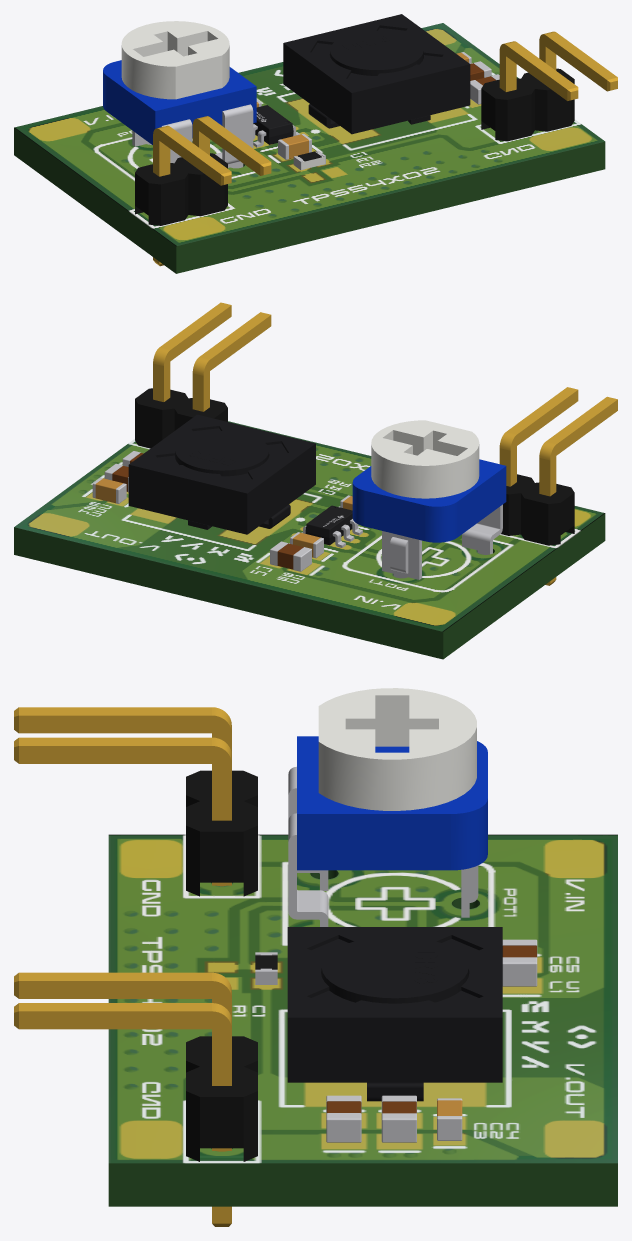
The model's file is eml01.glb.
3 renders of one model, top to bottom at view 1: azimuth 30°, elevation 25°; view 2: azimuth 150°, elevation 25°; view 3: azimuth 270°, elevation 25°, orthographic. The views are drawn at different scales.
Parts seen in each view (by area): view 1: Board:Open CASCADE STEP translator 7.5 3.1.1, L1:Cooper Bussman DR73 Series Inductor, POT1: (×4), J1:PLS-1R (×2), J2:PLS-1R (×2), U1:body, C1:Open CASCADE STEP translator 6.8 3.2.1; view 2: Board:Open CASCADE STEP translator 7.5 3.1.1, POT1: (×4), L1:Cooper Bussman DR73 Series Inductor, J1:PLS-1R (×2), J2:PLS-1R (×2), U1:body; view 3: Board:Open CASCADE STEP translator 7.5 3.1.1, POT1: (×4), L1:Cooper Bussman DR73 Series Inductor, J2:PLS-1R (×2), J1:PLS-1R (×2), C2:, C5:, C3:.
Boxes of the visible parts, x1=… form: Board:Open CASCADE STEP translator 7.5 3.1.1: x1=14, y1=23, x2=605, y2=273; L1:Cooper Bussman DR73 Series Inductor: x1=283, y1=14, x2=470, y2=134; POT1: (×4): x1=103, y1=21, x2=256, y2=168; J1:PLS-1R (×2): x1=135, y1=116, x2=271, y2=266; J2:PLS-1R (×2): x1=481, y1=31, x2=617, y2=141; U1:body: x1=253, y1=105, x2=293, y2=144; C1:Open CASCADE STEP translator 6.8 3.2.1: x1=281, y1=134, x2=308, y2=159; Board:Open CASCADE STEP translator 7.5 3.1.1: x1=14, y1=421, x2=605, y2=659; POT1: (×4): x1=352, y1=420, x2=506, y2=579; L1:Cooper Bussman DR73 Series Inductor: x1=128, y1=414, x2=315, y2=534; J1:PLS-1R (×2): x1=499, y1=387, x2=617, y2=585; J2:PLS-1R (×2): x1=135, y1=302, x2=271, y2=448; U1:body: x1=305, y1=505, x2=352, y2=545; Board:Open CASCADE STEP translator 7.5 3.1.1: x1=108, y1=834, x2=617, y2=1206; POT1: (×4): x1=288, y1=688, x2=487, y2=926; L1:Cooper Bussman DR73 Series Inductor: x1=287, y1=927, x2=502, y2=1101; J2:PLS-1R (×2): x1=14, y1=972, x2=257, y2=1226; J1:PLS-1R (×2): x1=14, y1=707, x2=257, y2=896; C2:: x1=381, y1=1113, x2=416, y2=1142; C5:: x1=502, y1=957, x2=537, y2=986; C3:: x1=326, y1=1113, x2=361, y2=1142.
Bounding box in the file's own units: 0.0275 × 0.0109 × 0.0213.
16 materials, 2 textured.
